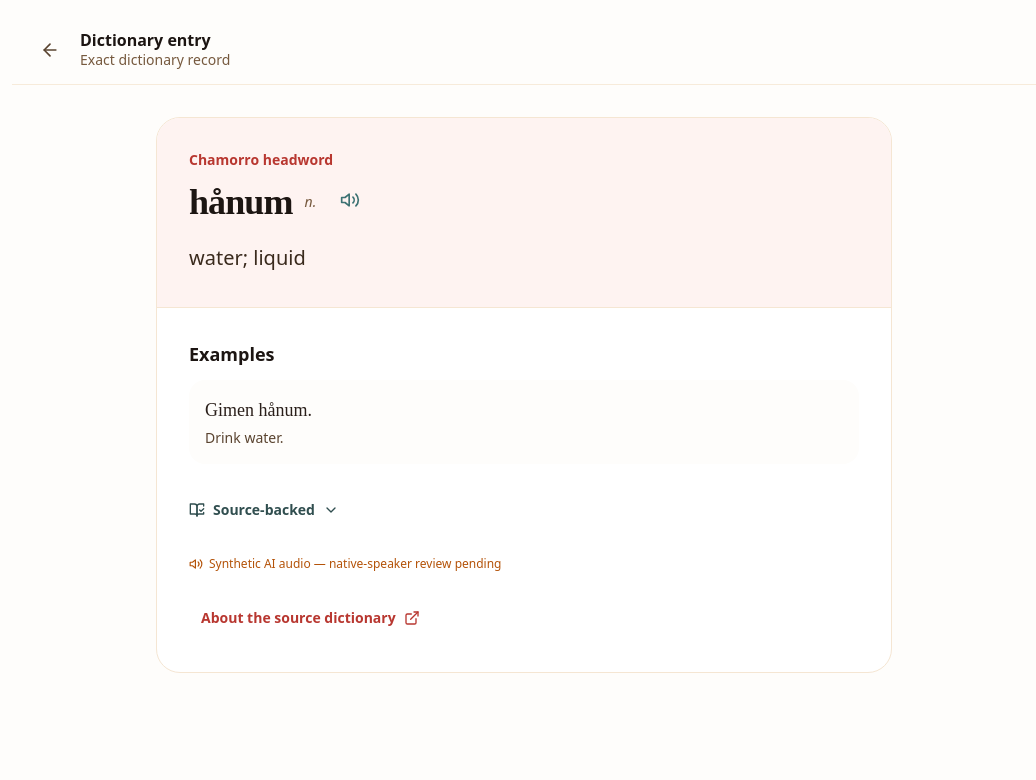
Test case: stable vocabulary records › rejects an external return target and falls back to the dictionary
Click the link named "Back to dictionary".
click(50, 50)  # box top-left (40, 40), bottom-right (60, 60)
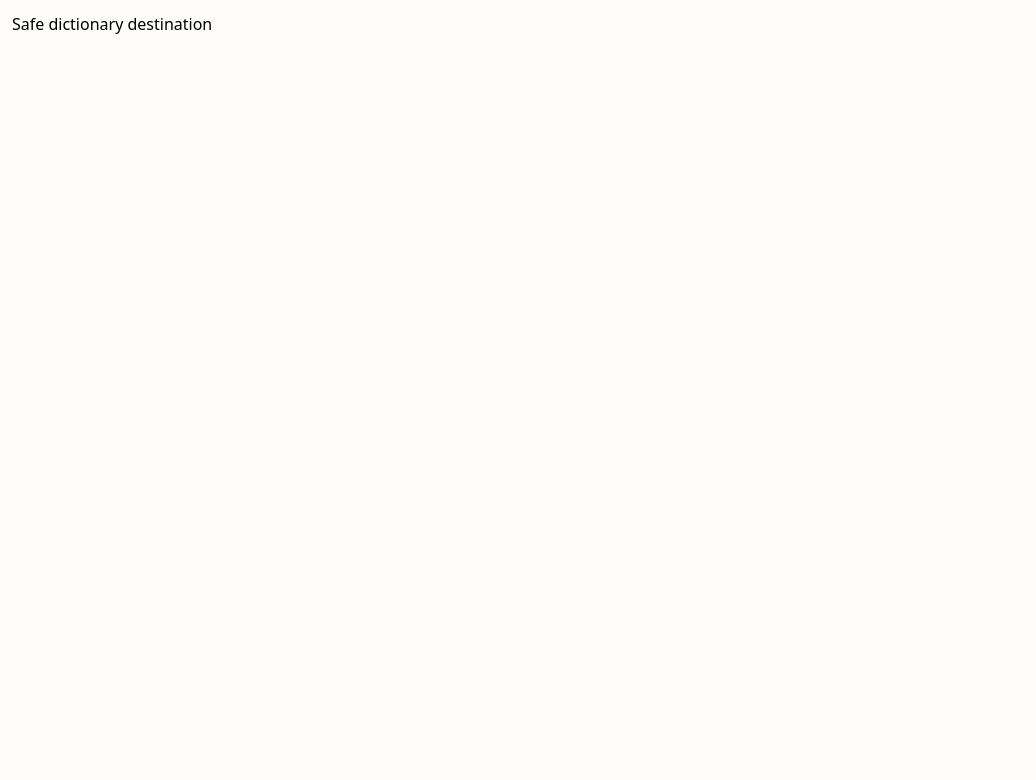
Expected: the text "Safe dictionary destination" is shown, top-left (12, 13), bottom-right (212, 35)
